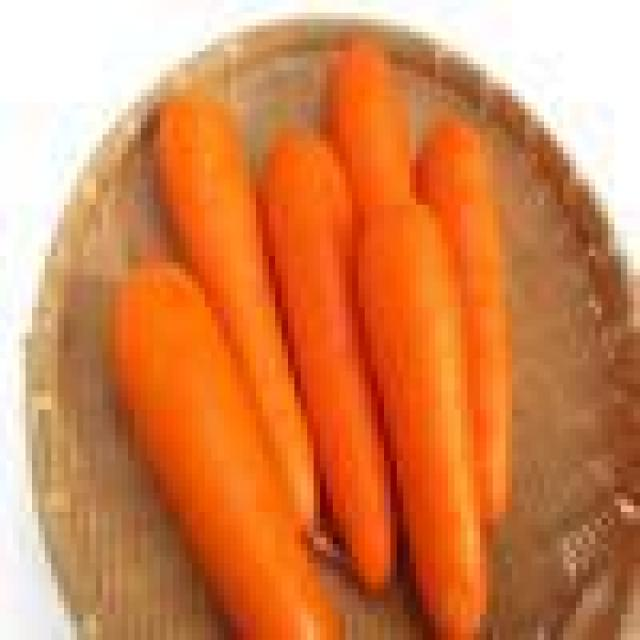Fresh_Carrot: (116, 257, 353, 640), (257, 138, 390, 600), (167, 86, 310, 497), (378, 210, 479, 640), (430, 131, 509, 506)
